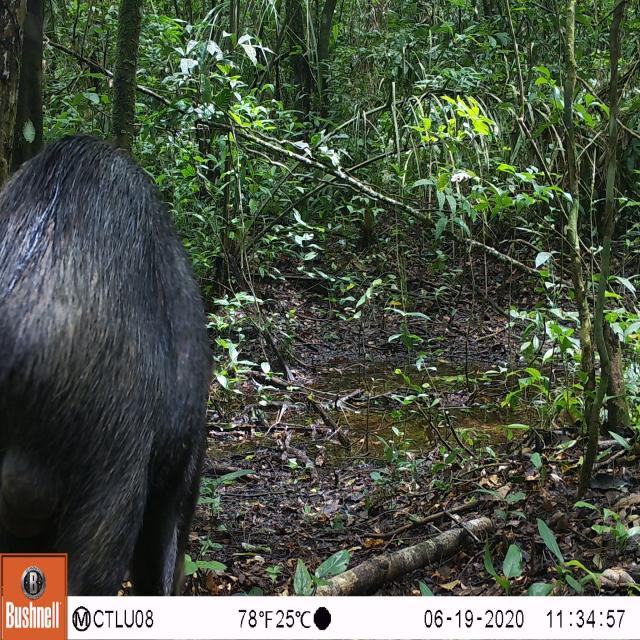Collared Peccary: (0, 117, 225, 595)
